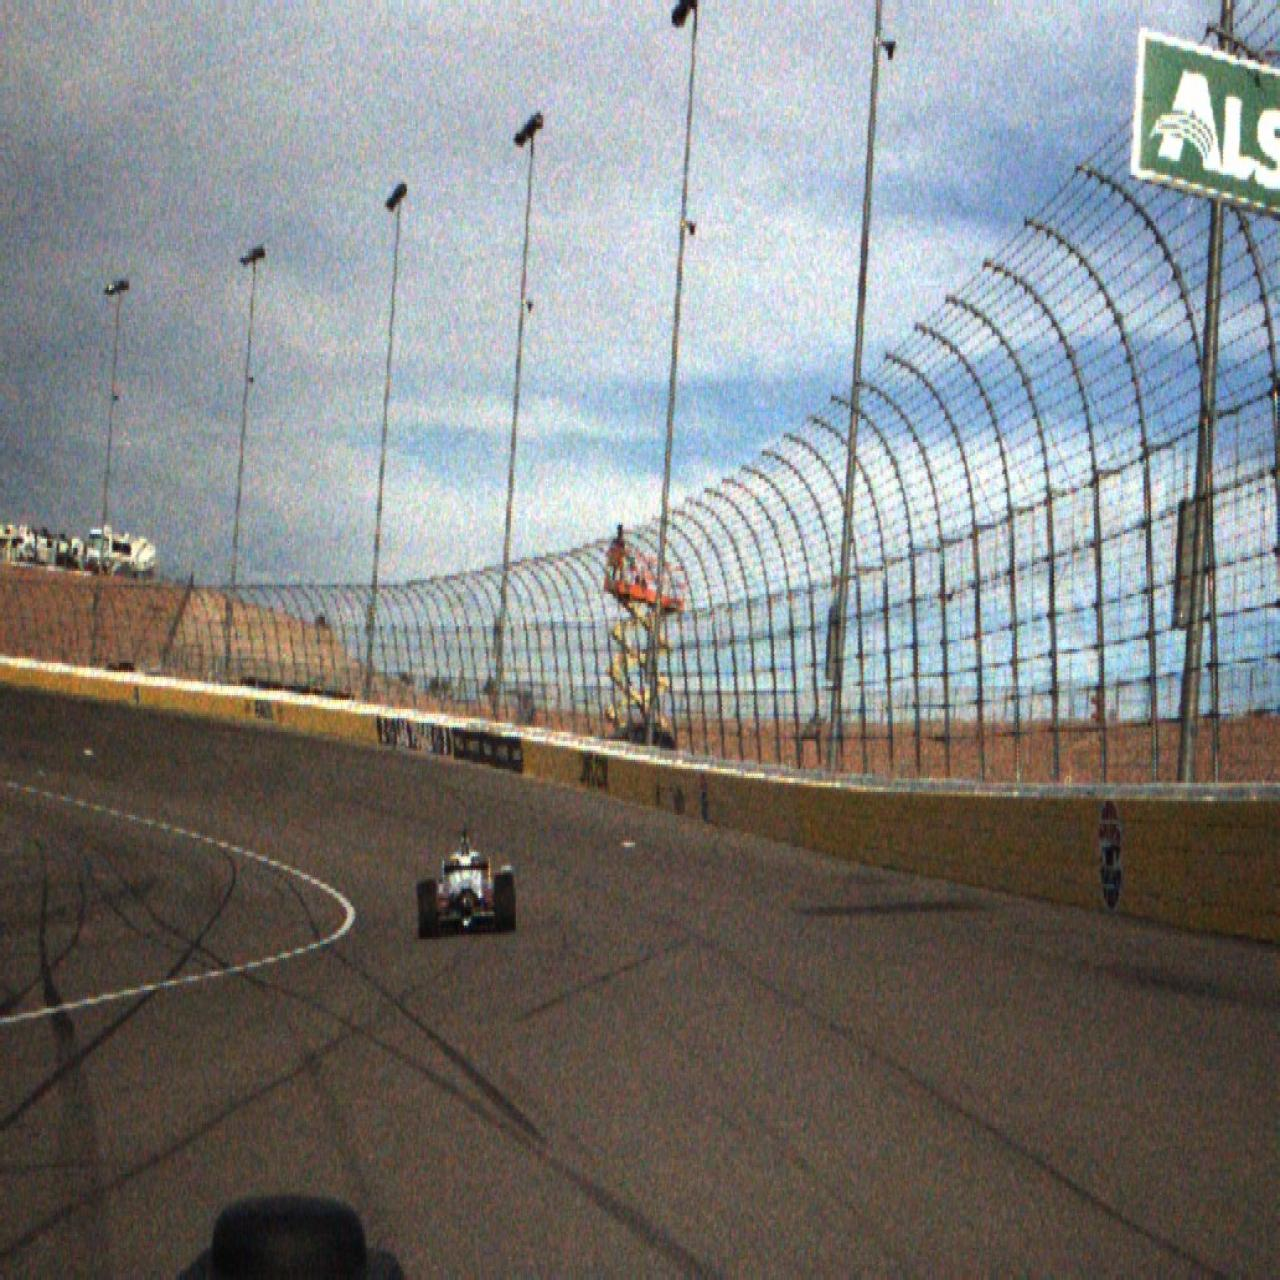AV: (416, 826, 516, 942)
Wheel: (494, 872, 516, 934), (417, 880, 438, 941)
